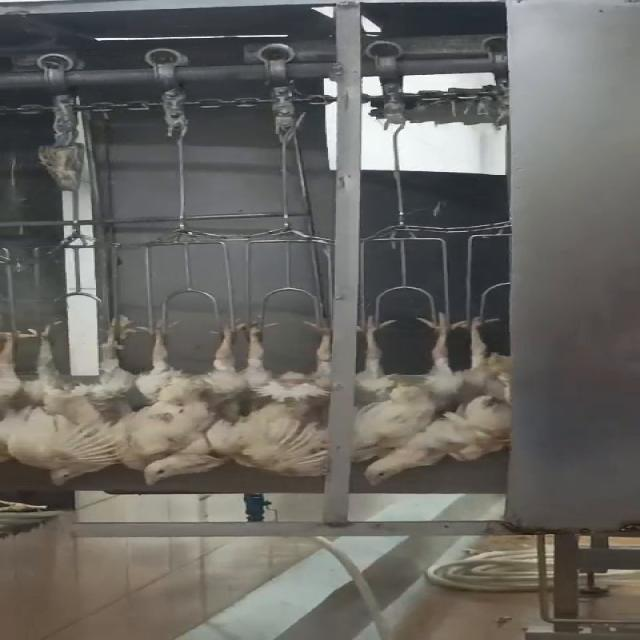chicken: (126, 316, 251, 489), (357, 310, 464, 491), (30, 310, 139, 487), (236, 316, 336, 481), (453, 304, 518, 465), (0, 327, 29, 466)
